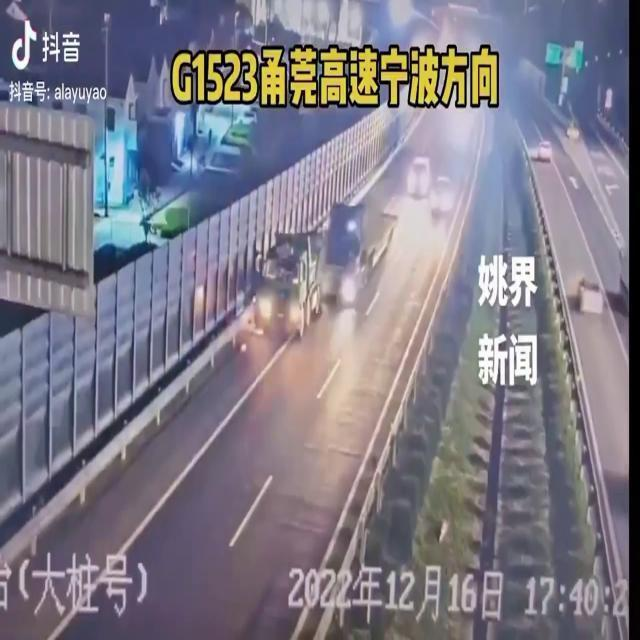accident: (251, 202, 401, 342)
non-accident: (407, 154, 459, 222)
